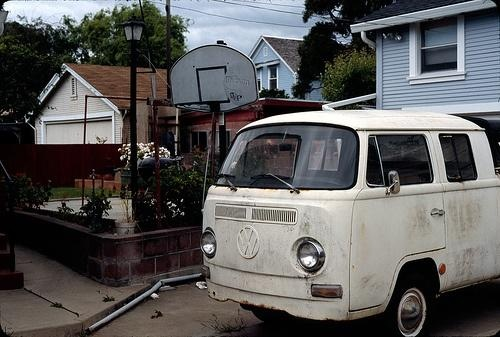car: (199, 109, 500, 336)
